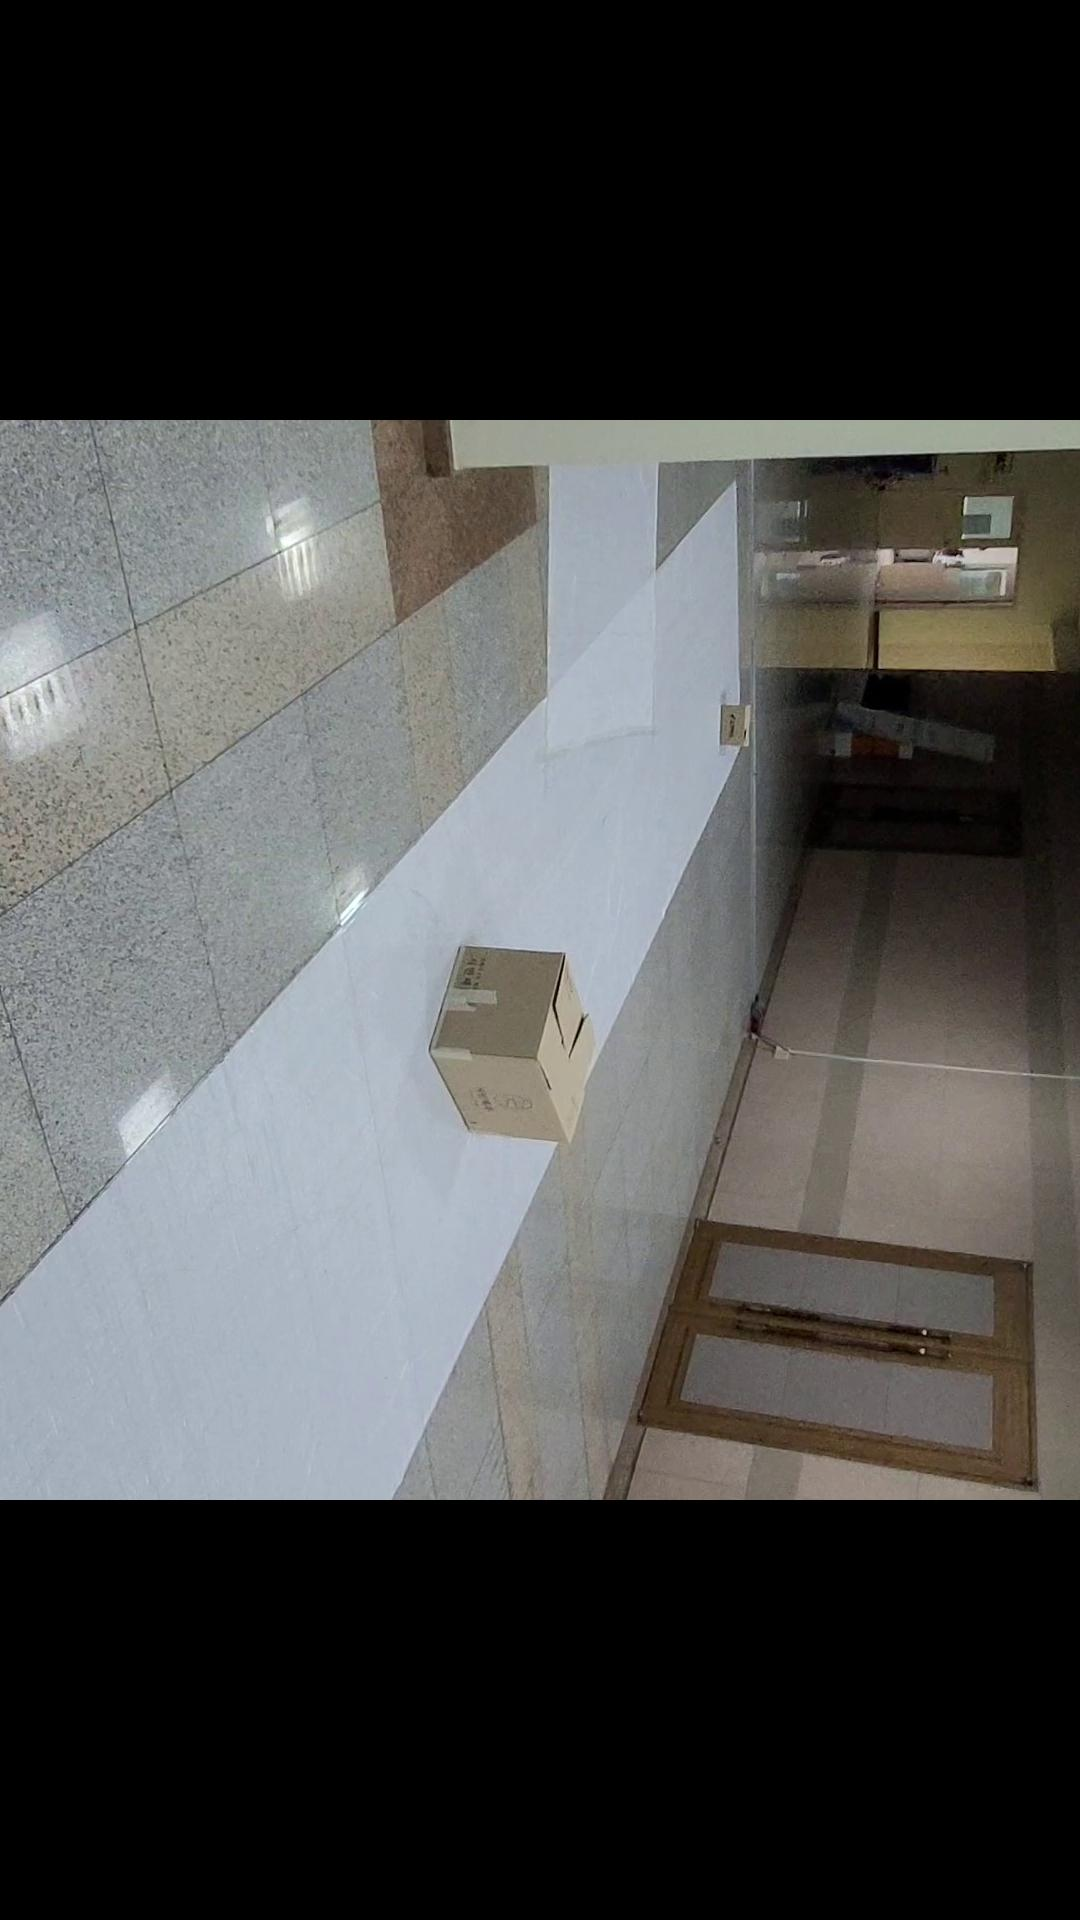Box: (396, 923, 626, 1156), (694, 673, 781, 765)
